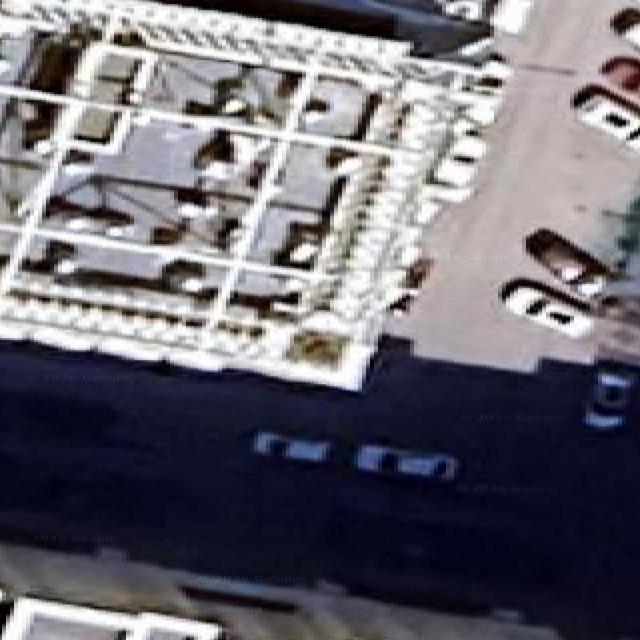car: (524, 228, 611, 296), (500, 280, 592, 336), (355, 444, 455, 480), (584, 362, 635, 428), (252, 431, 327, 462)
